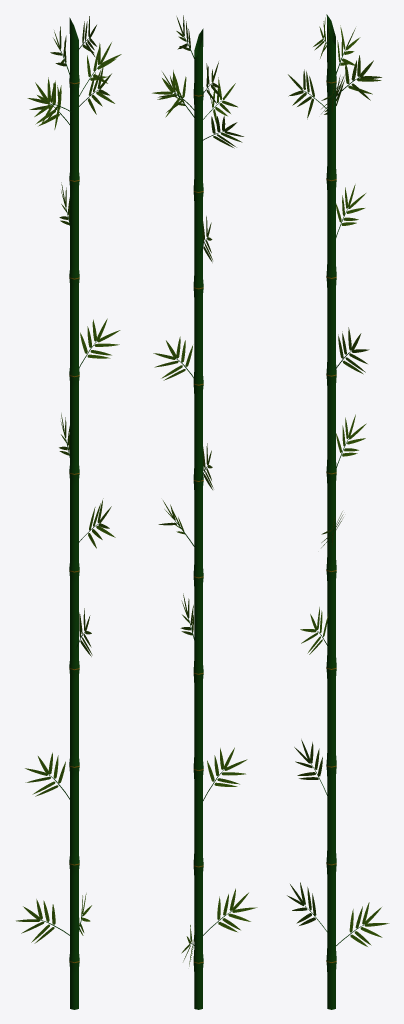
Rendered from BambooCv1.fbx.
3 views of the same model, side by side, from view 1: azimuth 30°, elevation 25°; view 2: azimuth 210°, elevation 25°; view 3: azimuth 330°, elevation 25° (orthographic).
Visible parts, largest first — view 1: BambooC; view 2: BambooC; view 3: BambooC.
Boxes of the visible parts, x1,y1,x2,y2 form: BambooC: [16, 16, 121, 1009]; BambooC: [152, 15, 257, 1009]; BambooC: [287, 14, 389, 1009].
Bounding box in the file's own units: 109 × 1020 × 93.57.
